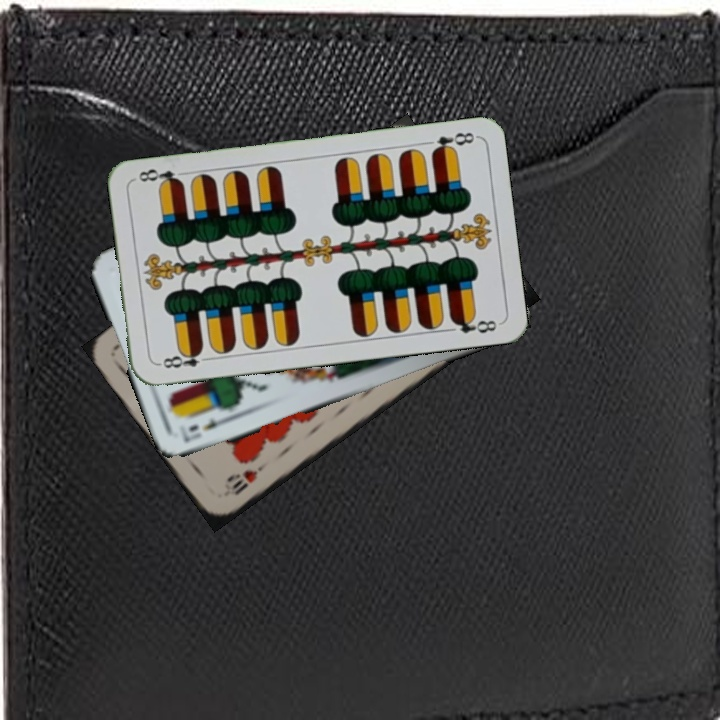E8: (154, 345, 213, 371), (428, 128, 478, 157)
EK: (177, 411, 236, 445)
H10: (228, 458, 270, 498)
